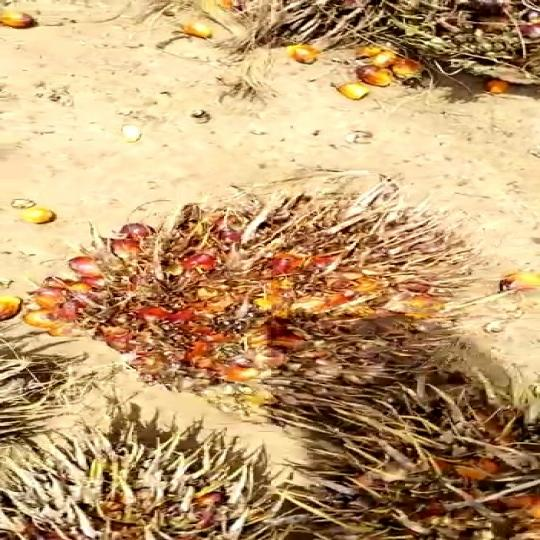terlalu masak: (44, 174, 540, 440)
